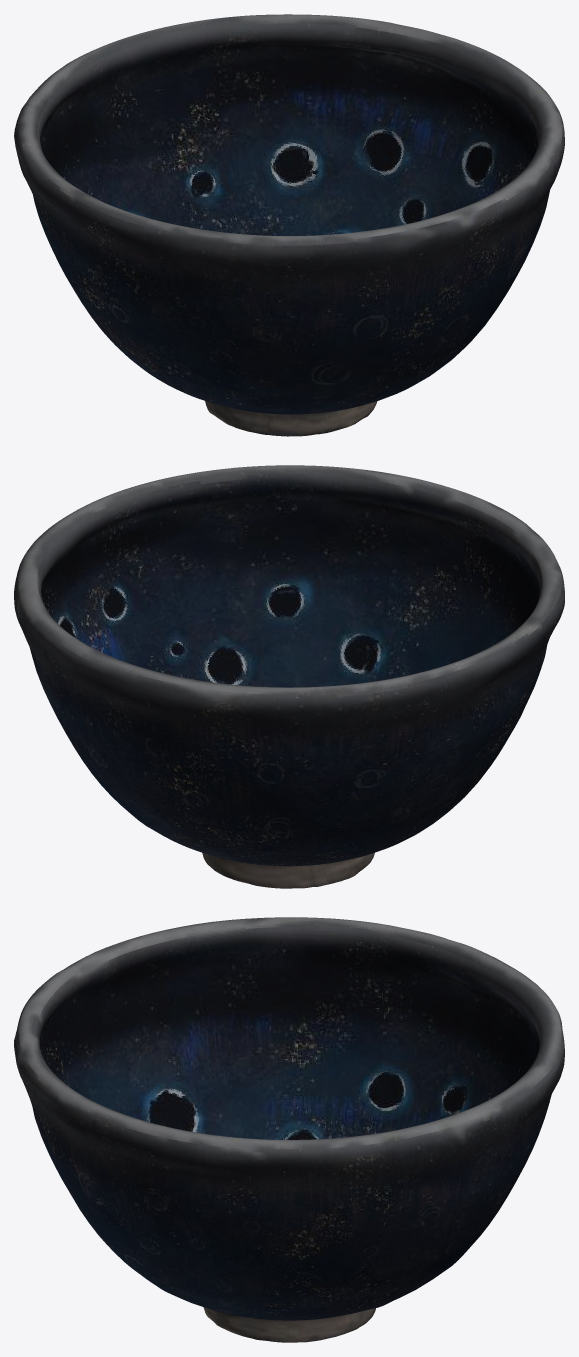
File: cyawan.gltf
The picture shows the model from 3 angles, top to bottom: view 1: azimuth 30°, elevation 25°; view 2: azimuth 150°, elevation 25°; view 3: azimuth 270°, elevation 25°; orthographic projection.
Parts seen in each view (by area): view 1: cyawan; view 2: cyawan; view 3: cyawan.
Part boxes in pixels (x1=…): cyawan: x1=14, y1=14, x2=564, y2=436; cyawan: x1=14, y1=465, x2=564, y2=888; cyawan: x1=14, y1=917, x2=564, y2=1342.
Size of the model in its own units: 0.123 by 0.068 by 0.1227.
1 material, 1 textured.
